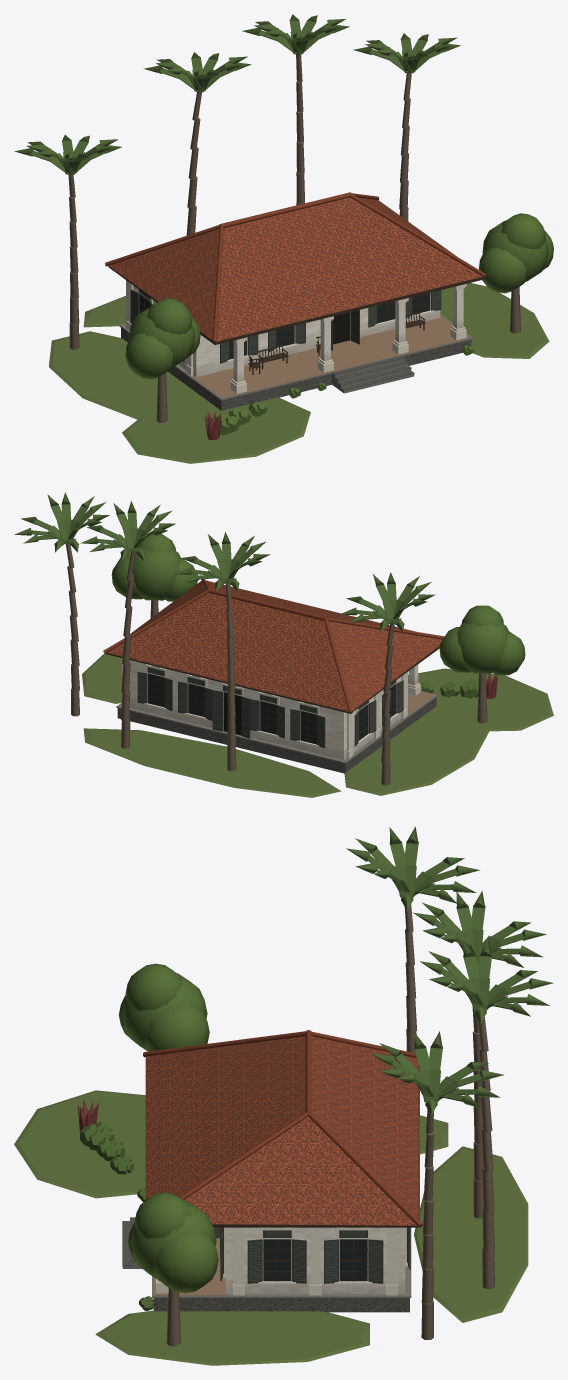
The model's file is 5.Dutch_Colonial_Building_Complete_WebAR-compressed.glb.
3 views of the same model, one above another, from view 1: azimuth 30°, elevation 25°; view 2: azimuth 150°, elevation 25°; view 3: azimuth 270°, elevation 25° (orthographic). The views are drawn at different scales.
Visible parts, largest first — view 1: Roof_Terracotta_Slopes, Tropical_Environment, Tropical_Coconut_Palm (×4), Tropical_Shade_Tree (×2), Veranda_Floor, Main_Colonial_Walls, Terracotta_Hipped_Roof, Raised_Stone_Foundation, Roof_Eaves_Soffit, Plinth_Stone_Cap, Front_Main_Entrance_Door, Front_Veranda_Window_2 (+7 smaller); view 2: Roof_Terracotta_Slopes, Tropical_Environment, Tropical_Coconut_Palm (×4), Tropical_Shade_Tree (×2), Main_Colonial_Walls, Raised_Stone_Foundation, Terracotta_Hipped_Roof, Rear_Service_Door, Rear_Window_1, Rear_Window_5, Rear_Window_4, Rear_Window_2 (+5 smaller); view 3: Roof_Terracotta_Slopes, Tropical_Environment, Tropical_Coconut_Palm (×4), Tropical_Shade_Tree (×2), Main_Colonial_Walls, Terracotta_Hipped_Roof, Raised_Stone_Foundation, Right_Side_Window_1, Right_Side_Window_2, Colonial_Building_Structure, Plinth_Stone_Cap, Roof_Eaves_Soffit (+1 smaller).
Boxes of the visible parts, x1=… form: Roof_Terracotta_Slopes: x1=109, y1=197, x2=482, y2=341; Tropical_Environment: x1=49, y1=283, x2=549, y2=463; Tropical_Coconut_Palm (×4): x1=14, y1=14, x2=461, y2=349; Tropical_Shade_Tree (×2): x1=125, y1=213, x2=553, y2=422; Veranda_Floor: x1=193, y1=316, x2=470, y2=398; Main_Colonial_Walls: x1=126, y1=280, x2=440, y2=376; Terracotta_Hipped_Roof: x1=105, y1=192, x2=486, y2=343; Raised_Stone_Foundation: x1=121, y1=328, x2=471, y2=410; Roof_Eaves_Soffit: x1=108, y1=266, x2=483, y2=344; Plinth_Stone_Cap: x1=119, y1=314, x2=473, y2=400; Front_Main_Entrance_Door: x1=331, y1=310, x2=359, y2=350; Front_Veranda_Window_2: x1=268, y1=323, x2=305, y2=351; Roof_Terracotta_Slopes: x1=107, y1=580, x2=442, y2=711; Tropical_Environment: x1=82, y1=653, x2=553, y2=797; Tropical_Coconut_Palm (×4): x1=14, y1=492, x2=435, y2=785; Tropical_Shade_Tree (×2): x1=111, y1=533, x2=525, y2=723; Main_Colonial_Walls: x1=122, y1=658, x2=407, y2=759; Raised_Stone_Foundation: x1=117, y1=697, x2=436, y2=773; Terracotta_Hipped_Roof: x1=103, y1=579, x2=444, y2=713; Rear_Service_Door: x1=212, y1=683, x2=250, y2=738; Rear_Window_1: x1=290, y1=701, x2=325, y2=748; Rear_Window_5: x1=137, y1=664, x2=172, y2=710; Rear_Window_4: x1=178, y1=674, x2=212, y2=720; Rear_Window_2: x1=250, y1=692, x2=284, y2=738; Roof_Terracotta_Slopes: x1=145, y1=1036, x2=419, y2=1225; Tropical_Environment: x1=14, y1=1090, x2=528, y2=1365; Tropical_Coconut_Palm (×4): x1=346, y1=826, x2=553, y2=1339; Tropical_Shade_Tree (×2): x1=119, y1=963, x2=218, y2=1346; Main_Colonial_Walls: x1=225, y1=1227, x2=405, y2=1293; Terracotta_Hipped_Roof: x1=143, y1=1030, x2=422, y2=1227; Raised_Stone_Foundation: x1=153, y1=1298, x2=409, y2=1312; Right_Side_Window_1: x1=324, y1=1227, x2=383, y2=1284; Right_Side_Window_2: x1=247, y1=1227, x2=306, y2=1284; Colonial_Building_Structure: x1=233, y1=1227, x2=397, y2=1295; Plinth_Stone_Cap: x1=152, y1=1228, x2=411, y2=1297; Roof_Eaves_Soffit: x1=212, y1=1067, x2=418, y2=1227.
Size of what is drawn, in the model's own units: 29.87 by 15.78 by 24.02.
Materials: 16 (4 with a texture image).
